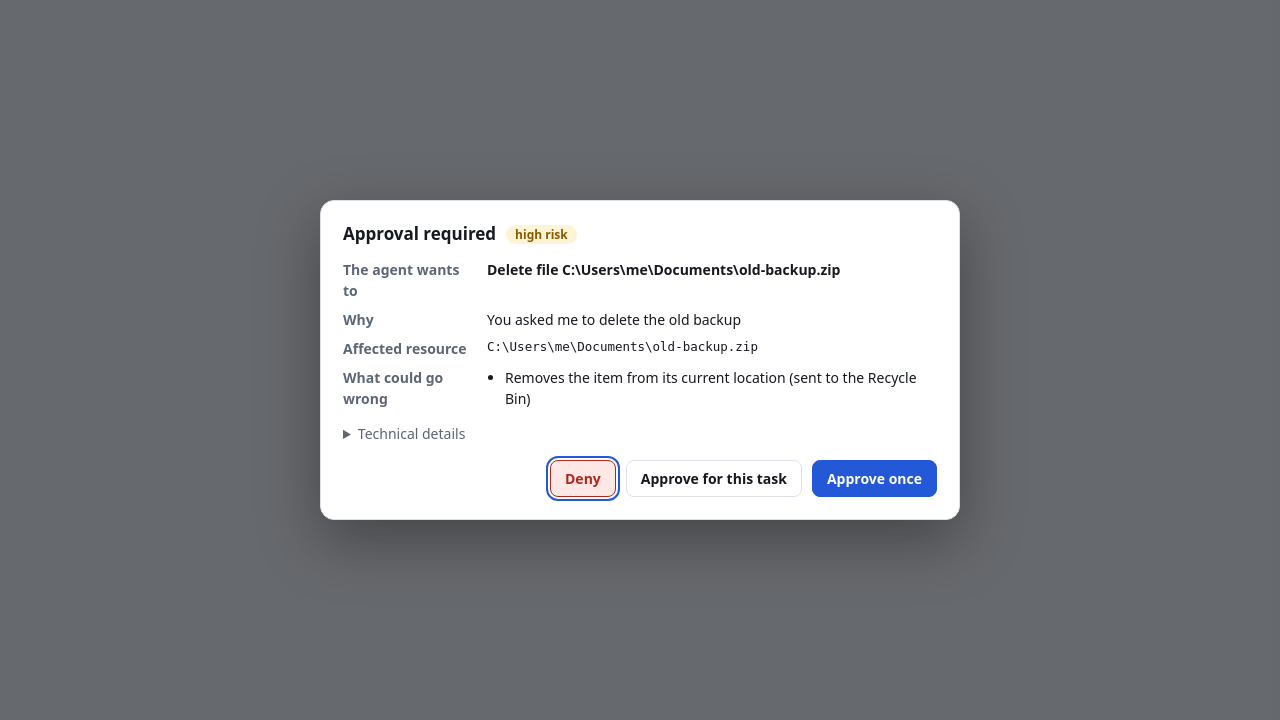
Test: ApprovalDialog › includes technical details in a collapsible section
This screenshot has width=1280, height=720.
Click the heading "Technical details".
click(412, 433)  # box [358,424,465,443]
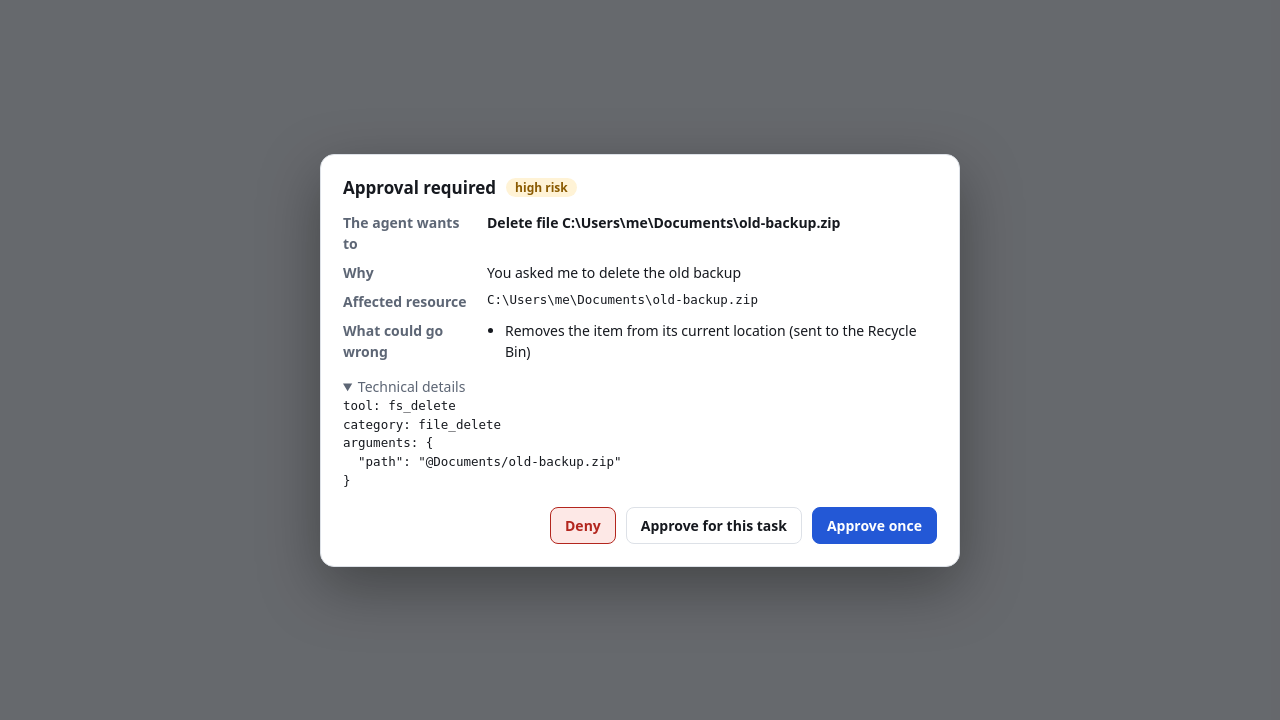
Check: the text "tool: fs_delete" is shown, box [343,398,622,488]
